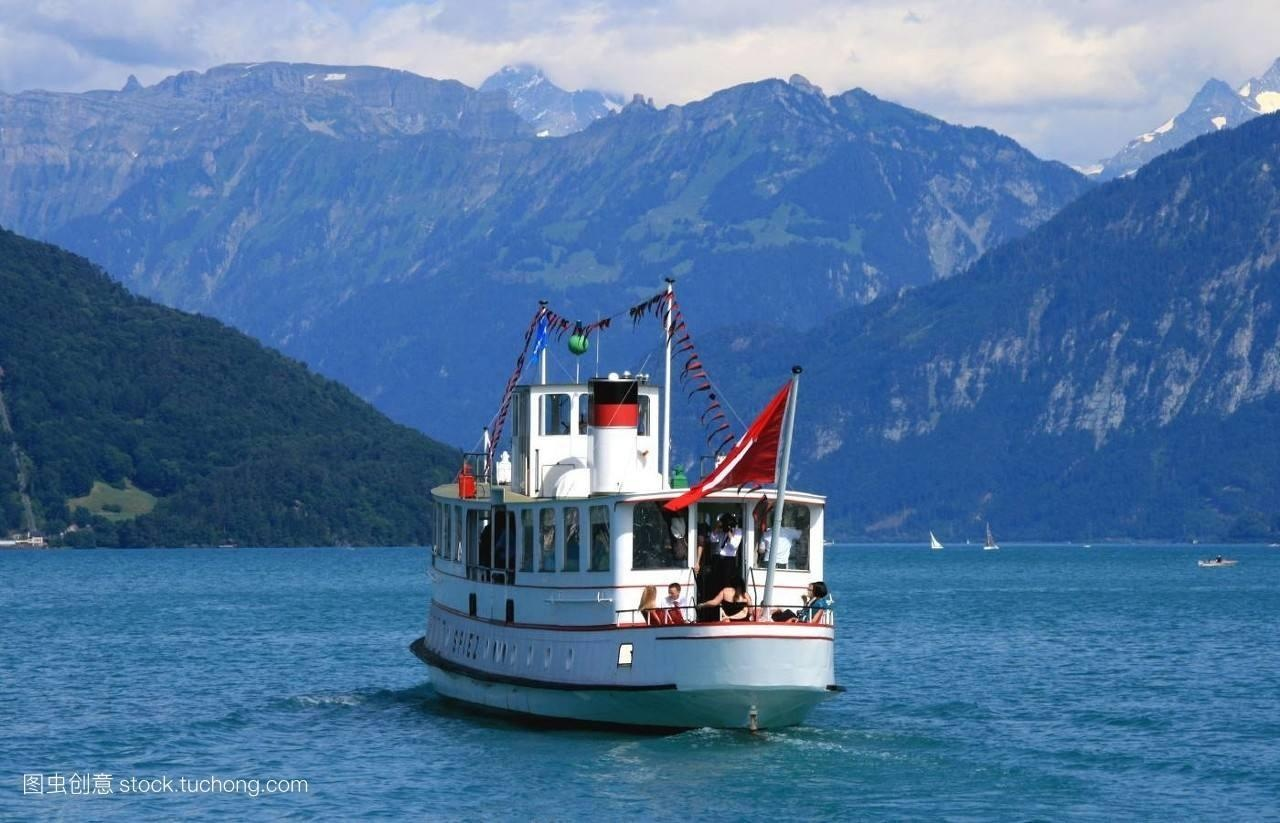otherboat: (404, 283, 865, 741)
